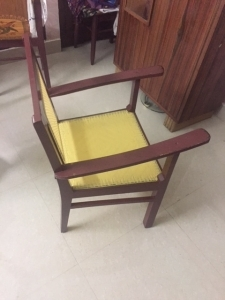chair: (23, 30, 211, 233)
